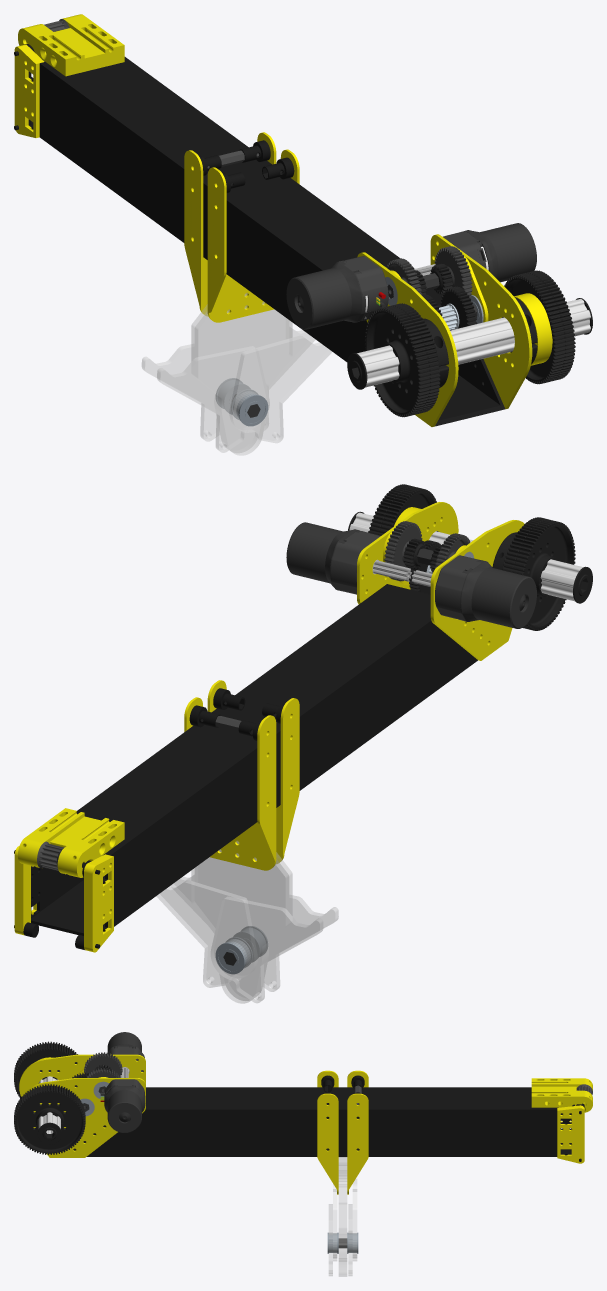
3 renders of one model, top to bottom at view 1: azimuth 30°, elevation 25°; view 2: azimuth 150°, elevation 25°; view 3: azimuth 270°, elevation 25°, orthographic. The views are drawn at different scales.
Visible parts, largest first — view 1: OUTER, LE STABBY R (×2), bASE pLATE (×2), 80T 20DP Steel MAXSpline Gear (REV-21-3034) (×4), Part 1 (×3), PIVOT PLATE (×2), NEO Vortex Brushless Motor (×2), MAXSpline Shaft 9.5", LE STABBY L (×2), RIGHT UPBB, SPARK Flex (×2), RIGHT (+5 smaller); view 2: OUTER, LE STABBY L (×2), bASE pLATE (×2), Part 1 (×2), NEO Vortex Brushless Motor (×2), PIVOT PLATE (×2), 80T 20DP Steel MAXSpline Gear (REV-21-3034) (×3), SPARK Flex (×2), RIGHT, RIGHT UPBB, LE STABBY R, LEFT UPBB (+4 smaller); view 3: OUTER, 80T 20DP Steel MAXSpline Gear (REV-21-3034) (×3), PIVOT PLATE (×2), Part 1 (×2), NEO Vortex Brushless Motor (×2), LEFT, LEFT UPBB, bASE pLATE (×2), LE STABBY L (×2), RIGHT UPBB, 20DP Gear - 1/2in Hex - 42T (REV-21-1932), MAXSpline Shaft Endcap - 1/2in Hex (REV-21-2393) (+2 smaller).
Part boxes in pixels (x1,y1,x2,y2): OUTER: (28, 51, 505, 426); LE STABBY R (×2): (157, 336, 331, 452); bASE pLATE (×2): (191, 293, 292, 455); 80T 20DP Steel MAXSpline Gear (REV-21-3034) (×4): (364, 270, 575, 417); Part 1 (×3): (184, 132, 552, 365); PIVOT PLATE (×2): (357, 234, 532, 426); NEO Vortex Brushless Motor (×2): (286, 223, 536, 329); MAXSpline Shaft 9.5": (357, 298, 590, 387); LE STABBY L (×2): (142, 327, 315, 441); RIGHT UPBB: (18, 24, 94, 76); SPARK Flex (×2): (339, 230, 488, 320); RIGHT: (14, 44, 44, 137); OUTER: (31, 584, 477, 935); LE STABBY L (×2): (156, 880, 323, 1002); bASE pLATE (×2): (191, 841, 292, 1003); Part 1 (×2): (184, 680, 299, 870); NEO Vortex Brushless Motor (×2): (286, 522, 536, 628); PIVOT PLATE (×2): (357, 502, 524, 660); 80T 20DP Steel MAXSpline Gear (REV-21-3034) (×3): (378, 487, 575, 630); SPARK Flex (×2): (331, 531, 483, 621); RIGHT: (84, 854, 113, 952); RIGHT UPBB: (57, 818, 124, 877); LE STABBY R: (263, 895, 338, 991); LEFT UPBB: (18, 808, 94, 867); OUTER: (73, 1087, 574, 1156); 80T 20DP Steel MAXSpline Gear (REV-21-3034) (×3): (14, 1045, 85, 1154); PIVOT PLATE (×2): (19, 1054, 145, 1157); Part 1 (×2): (317, 1070, 368, 1194); NEO Vortex Brushless Motor (×2): (104, 1032, 145, 1132); LEFT: (557, 1105, 584, 1163); LEFT UPBB: (531, 1090, 592, 1112); bASE pLATE (×2): (338, 1157, 347, 1276); LE STABBY L (×2): (348, 1179, 357, 1275); RIGHT UPBB: (531, 1078, 592, 1090); 20DP Gear - 1/2in Hex - 42T (REV-21-1932): (84, 1052, 122, 1076); MAXSpline Shaft Endcap - 1/2in Hex (REV-21-2393): (37, 1122, 61, 1144).
Size of the model in its own units: 0.2461 by 0.3435 by 0.8402.
